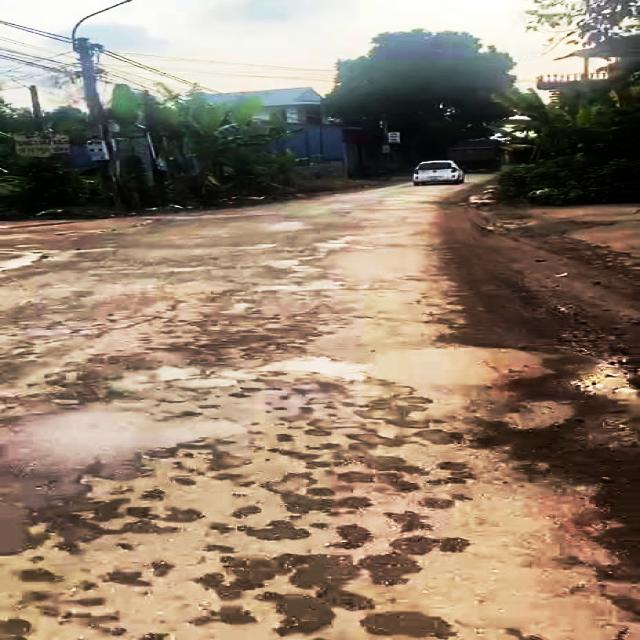pothole: (485, 336, 640, 471)
